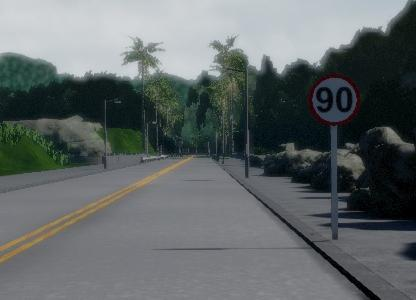Speed_90: (306, 70, 363, 131)
